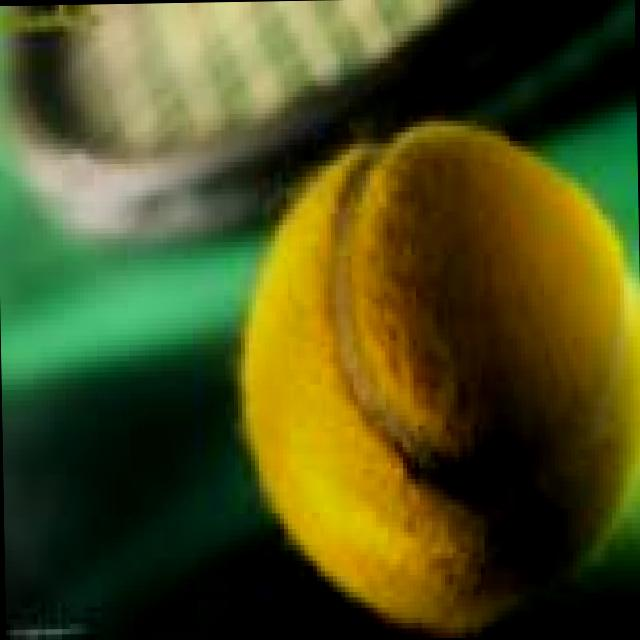Tennis Ball: (240, 121, 640, 636)
